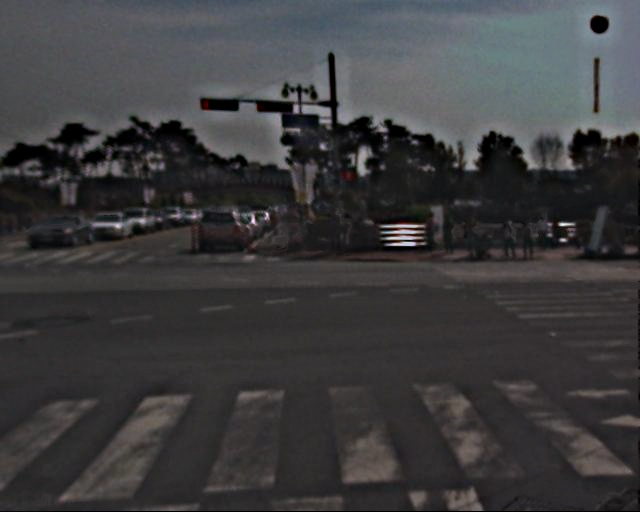person: (273, 204, 315, 247), (466, 214, 487, 265), (329, 206, 350, 257), (442, 211, 462, 259), (520, 215, 539, 262), (502, 216, 521, 262), (538, 215, 556, 260), (425, 210, 443, 255), (551, 209, 567, 247)
